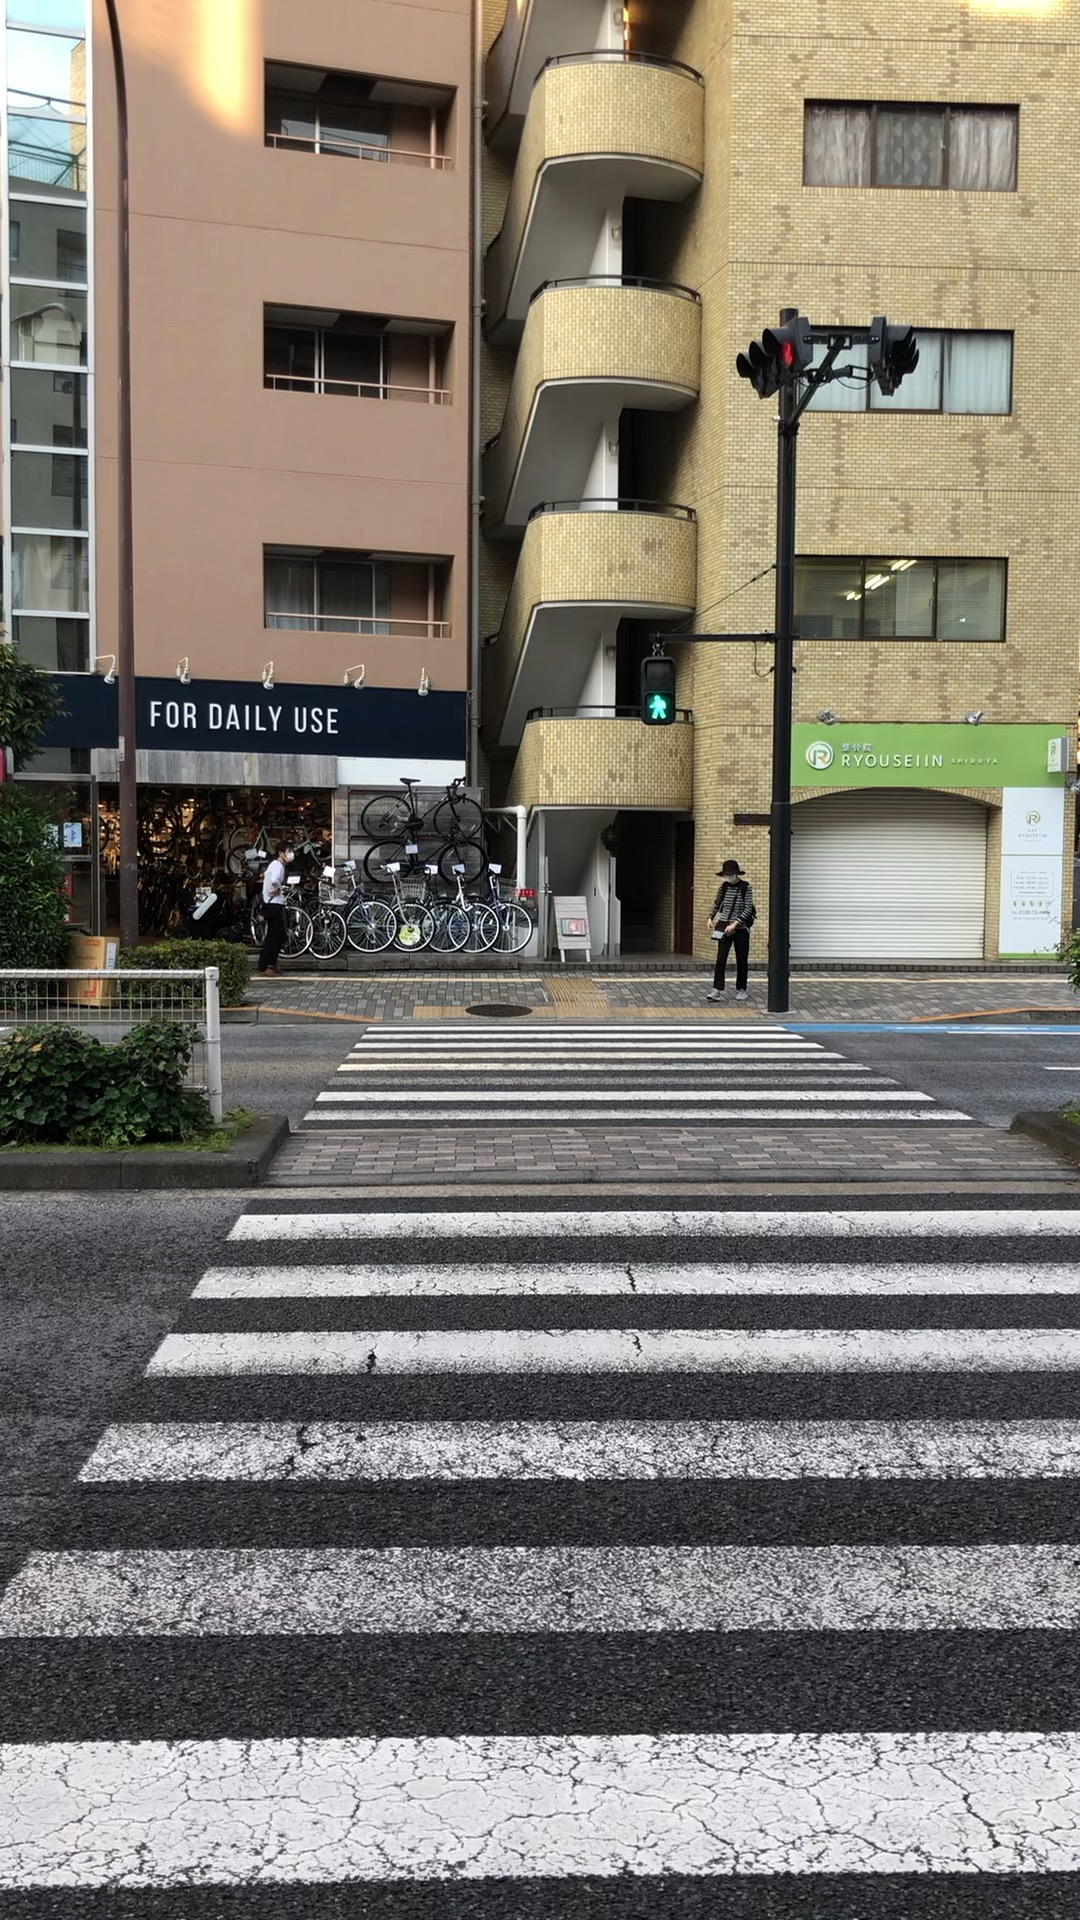green: (638, 655, 676, 727)
